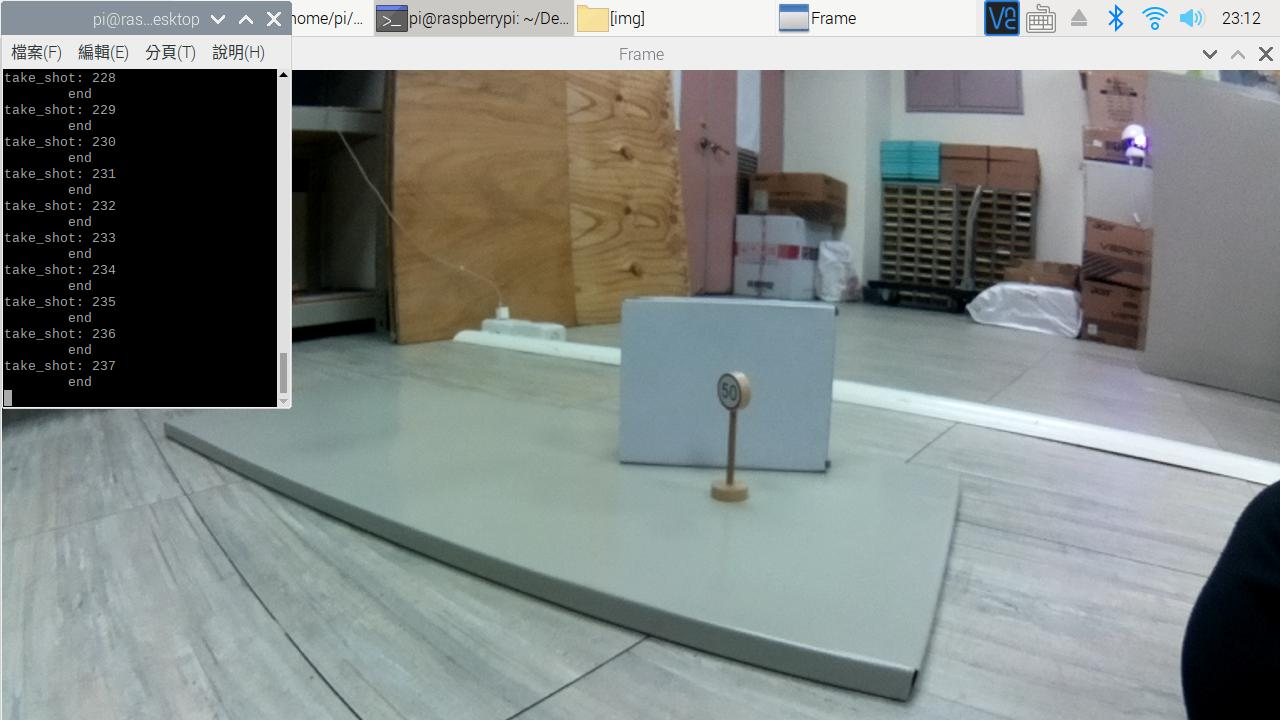Speed50: (705, 365, 759, 424)
